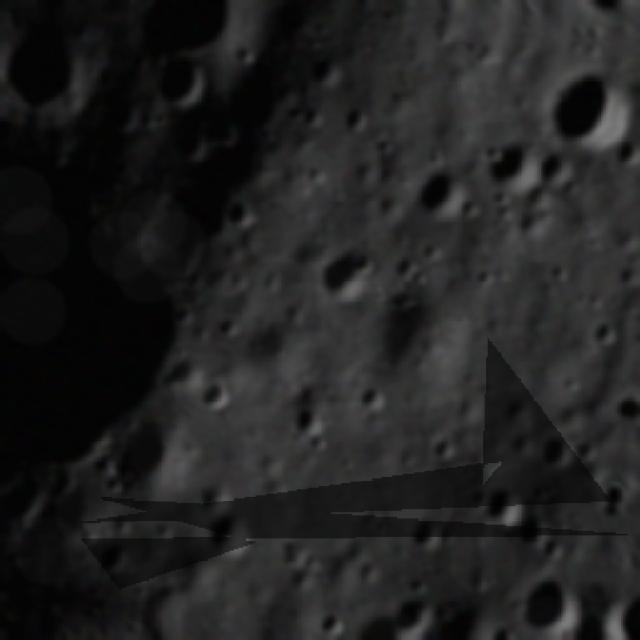crater: (527, 53, 640, 166), (106, 404, 196, 510), (122, 0, 239, 72), (302, 234, 389, 321), (505, 561, 592, 640), (472, 127, 550, 210), (398, 158, 476, 236), (138, 43, 216, 115), (199, 504, 266, 570), (468, 476, 528, 544), (344, 601, 440, 640), (188, 466, 241, 528), (380, 583, 438, 639), (190, 372, 247, 425), (158, 122, 215, 172), (531, 140, 584, 192), (286, 399, 336, 450), (528, 427, 577, 479), (91, 539, 144, 583), (216, 196, 264, 242), (335, 95, 380, 143), (155, 352, 203, 396), (352, 378, 396, 422), (378, 286, 420, 326), (208, 310, 250, 348), (426, 426, 463, 469), (607, 134, 640, 180), (168, 296, 205, 332), (588, 316, 622, 352), (609, 262, 640, 296), (312, 611, 348, 640), (402, 263, 432, 294), (543, 262, 572, 293), (472, 266, 499, 297), (418, 237, 444, 266)
